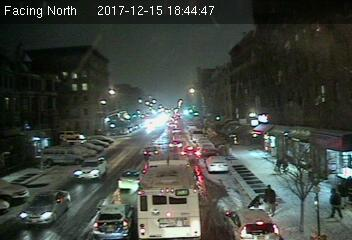bus: (140, 154, 204, 240)
car: (16, 191, 71, 228), (225, 208, 278, 240), (90, 205, 137, 239), (72, 156, 107, 180), (117, 169, 143, 190), (206, 154, 228, 173), (181, 145, 201, 158), (143, 146, 160, 157)
pedestrian: (326, 186, 344, 219), (264, 182, 280, 218)
